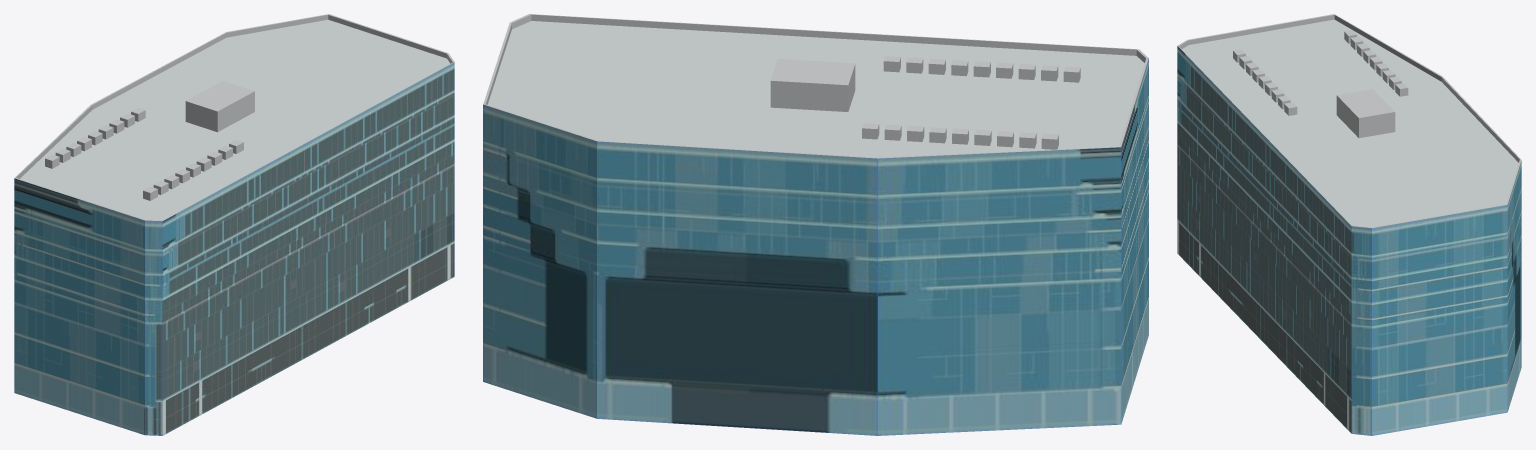
The picture shows the model from 3 angles, left to right: view 1: azimuth 30°, elevation 25°; view 2: azimuth 150°, elevation 25°; view 3: azimuth 270°, elevation 25°; orthographic projection. The views are drawn at different scales.
Parts seen in each view (by area): view 1: 1424945036; view 2: 1424945036; view 3: 1424945036.
Part boxes in pixels (x1,y1,x2,y2): 1424945036: (14,14,454,435); 1424945036: (483,14,1148,435); 1424945036: (1177,14,1521,435).
Size of the model in its own units: 77.64 by 37.7 by 52.72.
Materials: 3 (1 with a texture image).
